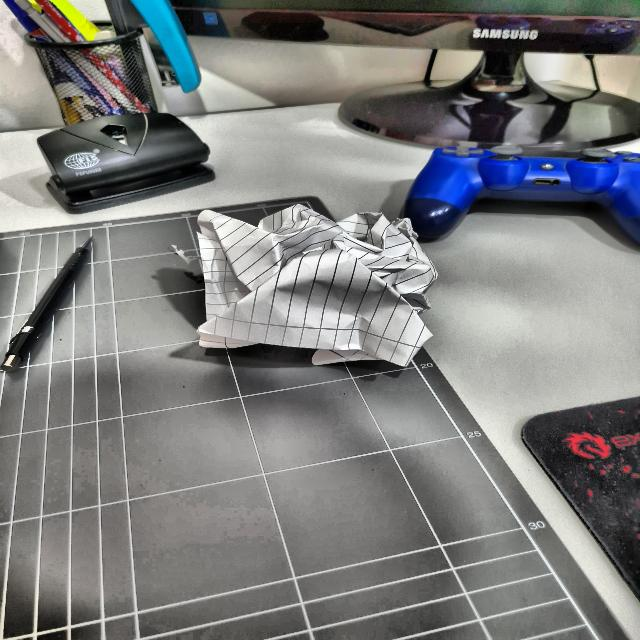Paper: (177, 197, 434, 372)
